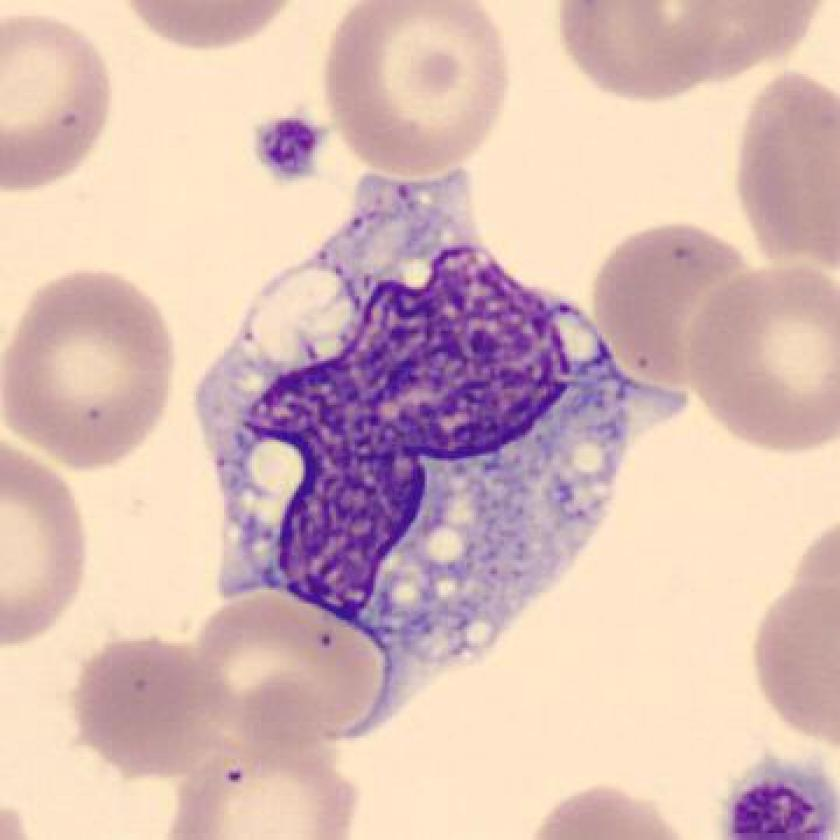monocyte: (176, 161, 710, 749)
